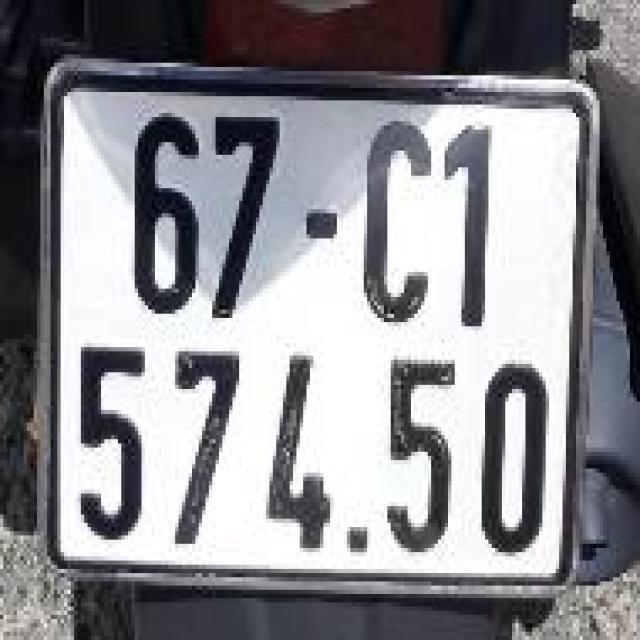0: (472, 362, 552, 575)
1: (431, 99, 502, 332)
4: (251, 324, 338, 563)
5: (67, 324, 165, 550), (380, 328, 464, 562)
6: (122, 96, 206, 322)
7: (166, 320, 248, 567), (206, 105, 293, 326)
C: (349, 106, 436, 332)
